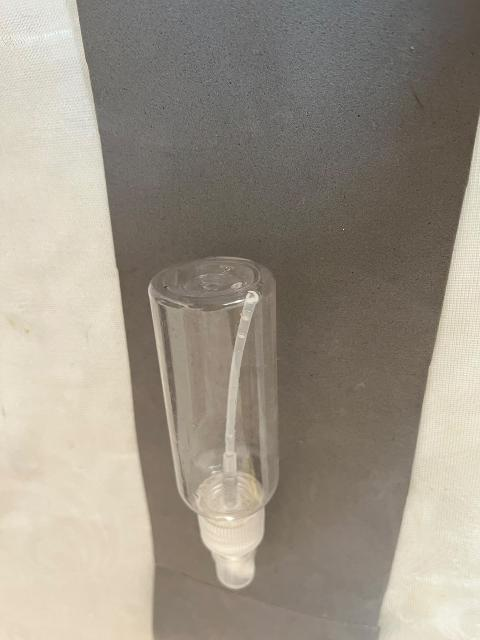PET: (127, 221, 325, 615)
